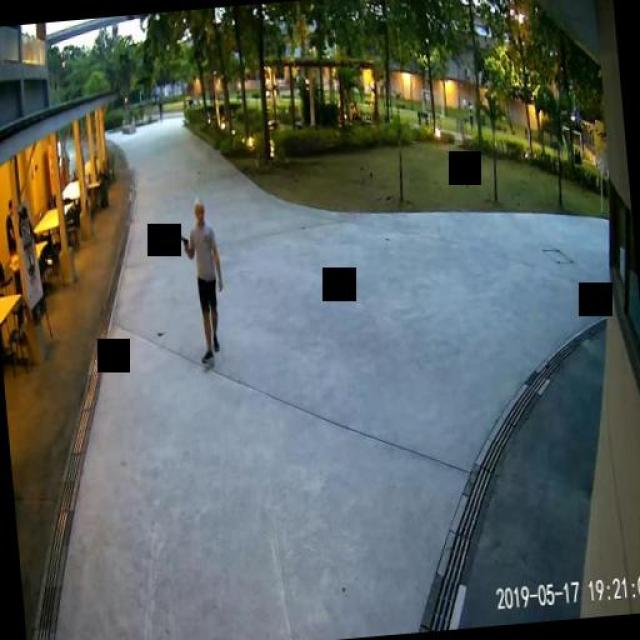gun: (179, 232, 189, 248)
